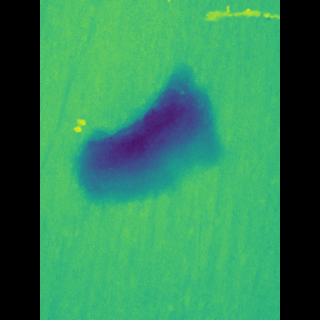Loch: (93, 56, 208, 204), (191, 3, 250, 33)
